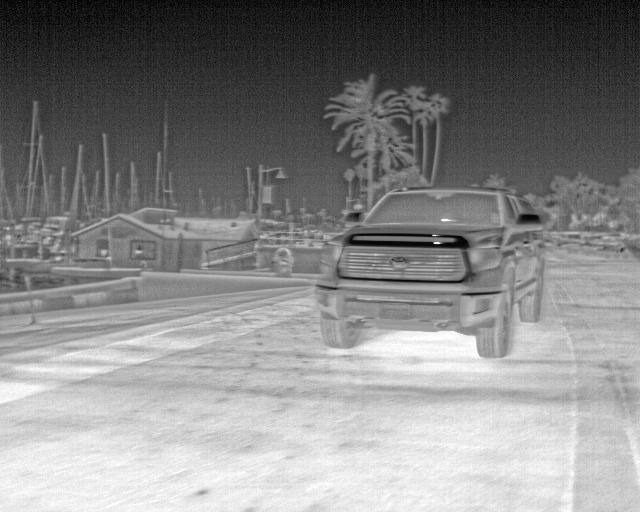bicycle: (316, 185, 538, 359)
